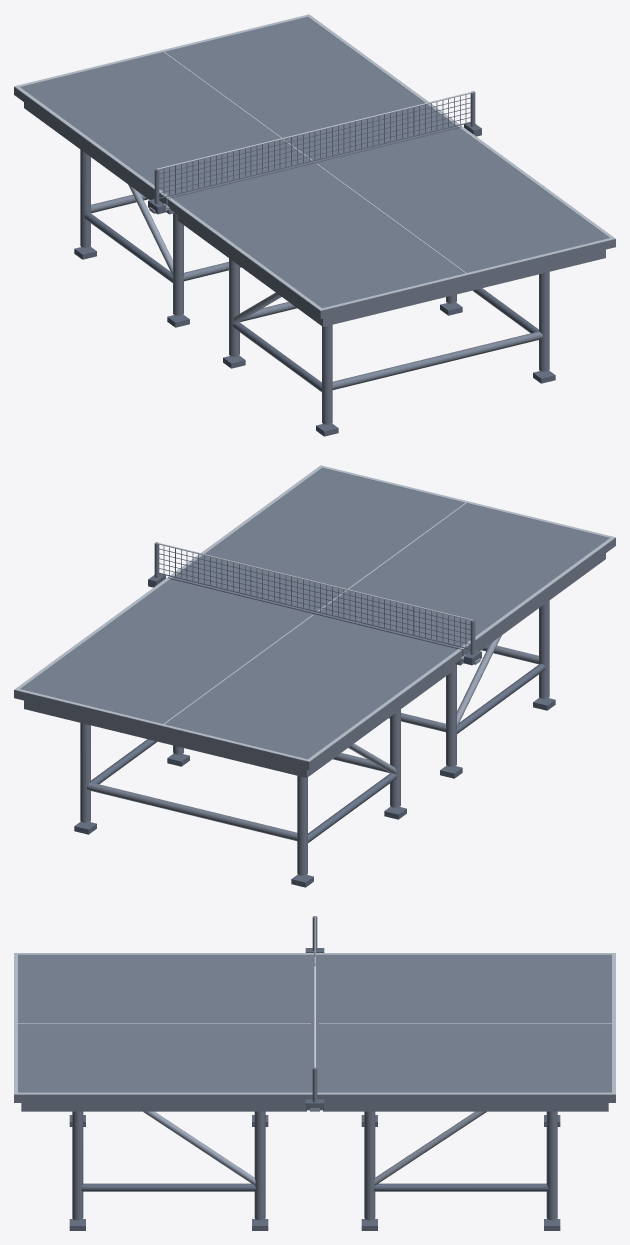
File: ping-pong-table-lite.glb
3 views of the same model, one above another, from view 1: azimuth 30°, elevation 25°; view 2: azimuth 150°, elevation 25°; view 3: azimuth 270°, elevation 25° (orthographic).
Visible parts, largest first — view 1: ping-pong-table-soft, ping-pong-table-frame, ping-pong-table-dark, ping-pong-table-light, ping-pong-table-accent; view 2: ping-pong-table-soft, ping-pong-table-frame, ping-pong-table-dark, ping-pong-table-light, ping-pong-table-accent; view 3: ping-pong-table-soft, ping-pong-table-frame, ping-pong-table-light, ping-pong-table-dark, ping-pong-table-accent.
Boxes of the visible parts, x1,y1,x2,y2 form: ping-pong-table-soft: [14, 17, 615, 319]; ping-pong-table-frame: [24, 91, 605, 424]; ping-pong-table-dark: [74, 95, 555, 436]; ping-pong-table-light: [14, 14, 615, 310]; ping-pong-table-accent: [128, 184, 281, 322]; ping-pong-table-soft: [14, 468, 615, 770]; ping-pong-table-frame: [24, 542, 605, 875]; ping-pong-table-dark: [74, 546, 555, 887]; ping-pong-table-light: [14, 465, 615, 761]; ping-pong-table-accent: [348, 635, 501, 773]; ping-pong-table-soft: [14, 955, 615, 1102]; ping-pong-table-frame: [21, 916, 608, 1220]; ping-pong-table-light: [14, 916, 615, 1094]; ping-pong-table-dark: [69, 948, 560, 1230]; ping-pong-table-accent: [143, 957, 486, 1185].
Bounding box in the file's own units: 1.68 × 0.921 × 2.74.
